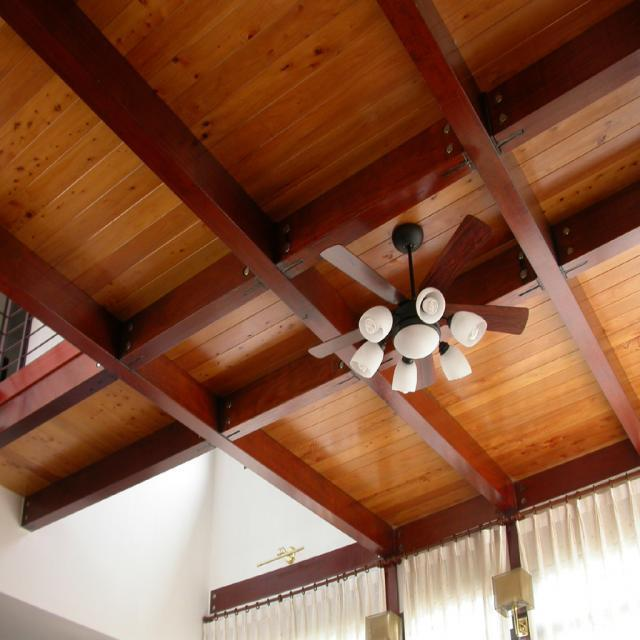bulb_off: (423, 294, 444, 318), (366, 318, 383, 338), (358, 358, 373, 380), (397, 386, 414, 399), (469, 326, 482, 343)
fan_off: (310, 212, 532, 388)
